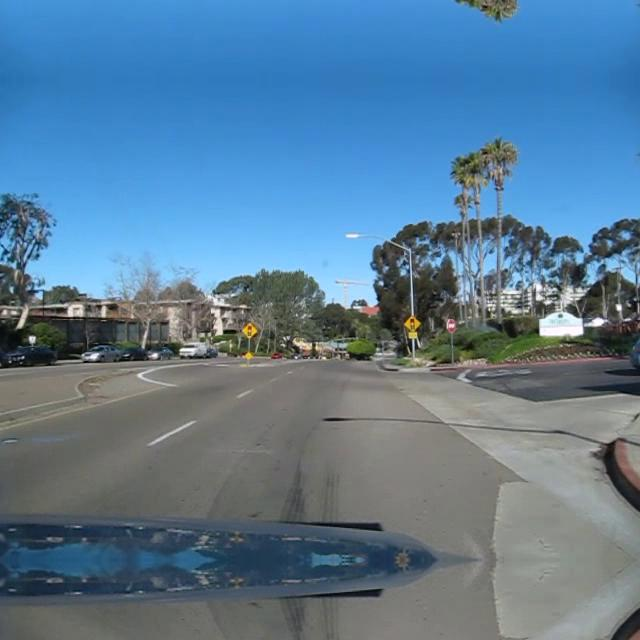signalAhead: (403, 314, 421, 332), (240, 321, 258, 339)
stop: (446, 318, 456, 332)
